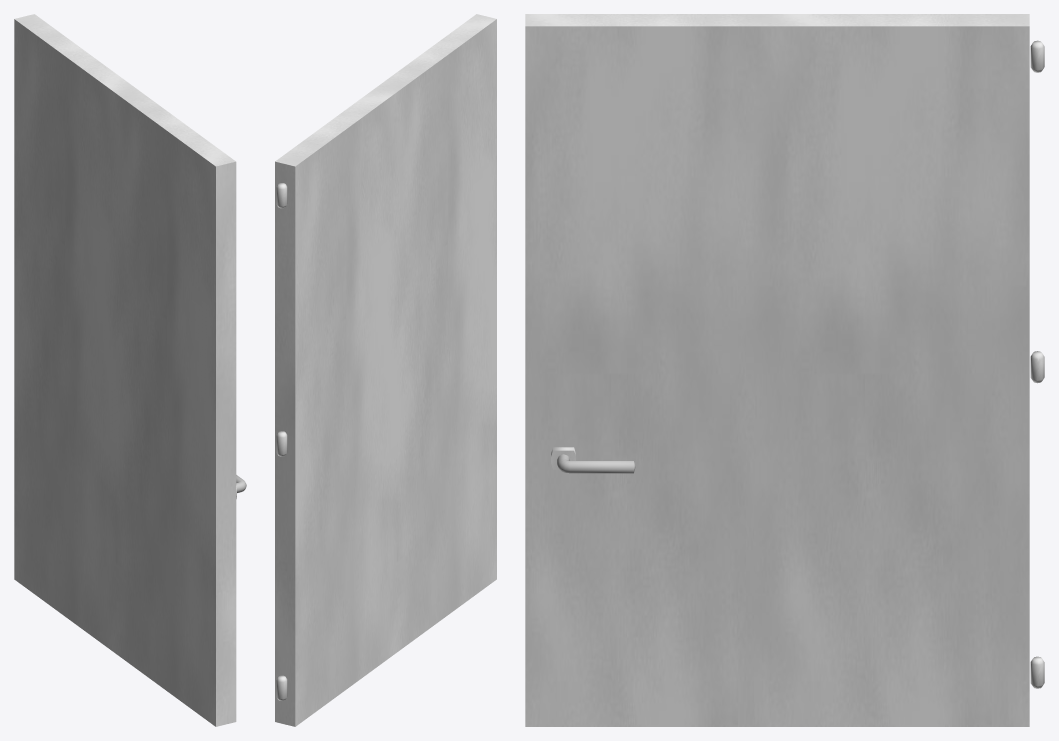
Rendered from toilet_door.fbx.
3 renders of one model, left to right at view 1: azimuth 30°, elevation 25°; view 2: azimuth 150°, elevation 25°; view 3: azimuth 270°, elevation 25°, orthographic. The views are drawn at different scales.
Visible parts, largest first — view 1: toilet_door; view 2: toilet_door; view 3: toilet_door.
Part boxes in pixels (left/top/right/bottom): toilet_door: left=14, top=14, right=246, bottom=726; toilet_door: left=275, top=14, right=496, bottom=726; toilet_door: left=525, top=14, right=1044, bottom=726.
Bounding box in the file's own units: 0.3711 × 4.19 × 2.81.
